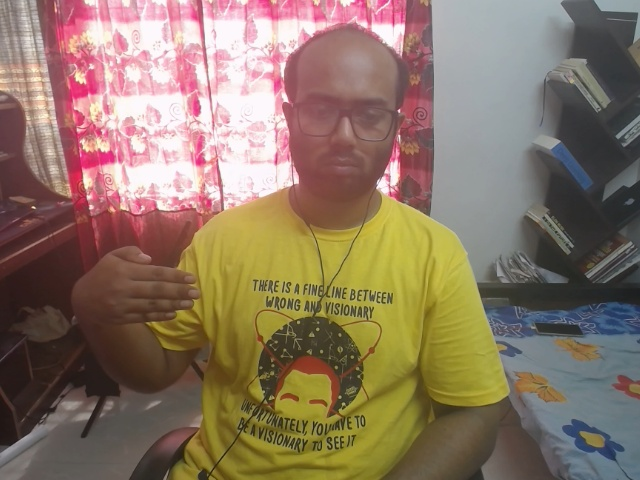north: (60, 225, 211, 354)
